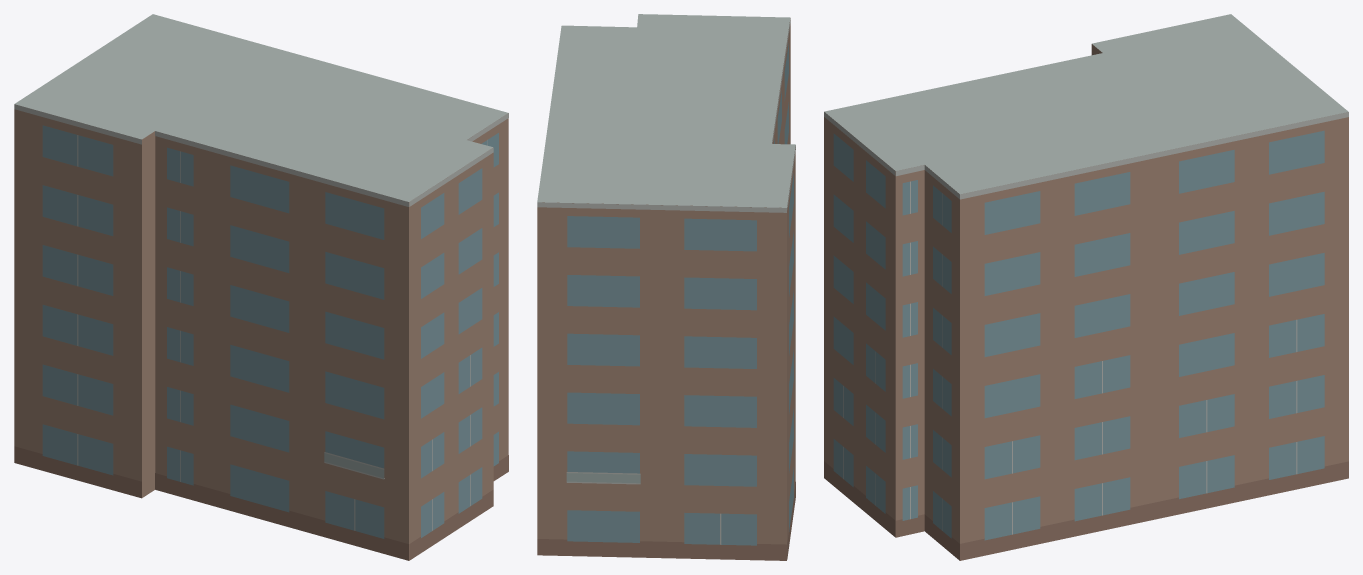
File: survey-upis-32699175.glb
The picture shows the model from 3 angles, left to right: view 1: azimuth 30°, elevation 25°; view 2: azimuth 150°, elevation 25°; view 3: azimuth 270°, elevation 25°; orthographic projection. The views are drawn at different scales.
Parts seen in each view (by area): view 1: survey-upis-32699175.tmp; view 2: survey-upis-32699175.tmp; view 3: survey-upis-32699175.tmp.
Boxes of the visible parts, x1,y1,x2,y2 form: survey-upis-32699175.tmp: (14, 14, 508, 560); survey-upis-32699175.tmp: (537, 14, 795, 560); survey-upis-32699175.tmp: (824, 14, 1348, 560).
Bounding box in the file's own units: 18.27 × 17.3 × 22.46.
